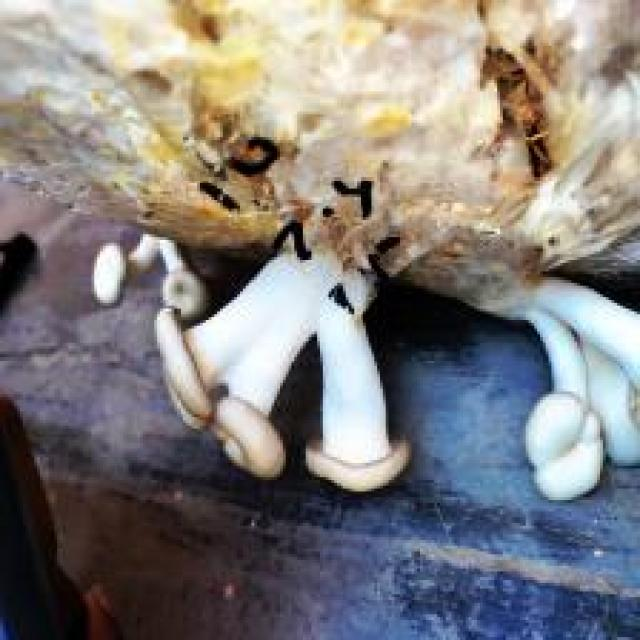chanterelle: (0, 0, 637, 503)
